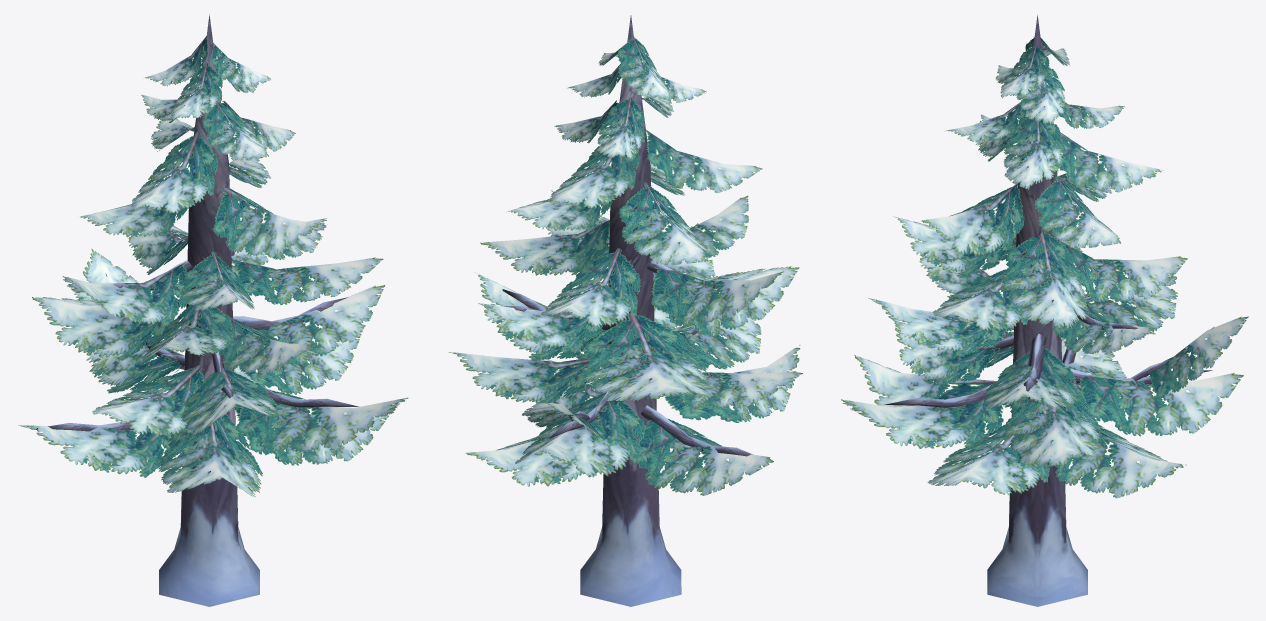
The model's file is Map_10_ tree01.FBX.
The picture shows the model from 3 angles, left to right: view 1: azimuth 30°, elevation 25°; view 2: azimuth 150°, elevation 25°; view 3: azimuth 270°, elevation 25°; orthographic projection.
Parts seen in each view (by area): view 1: Map_10_ tree01a, Map_10_ tree01b; view 2: Map_10_ tree01a, Map_10_ tree01b; view 3: Map_10_ tree01a, Map_10_ tree01b.
Boxes of the visible parts, x1=… form: Map_10_ tree01a: x1=18, y1=36, x2=408, y2=497; Map_10_ tree01b: x1=31, y1=14, x2=359, y2=606; Map_10_ tree01a: x1=448, y1=36, x2=802, y2=495; Map_10_ tree01b: x1=492, y1=15, x2=752, y2=606; Map_10_ tree01a: x1=841, y1=37, x2=1248, y2=498; Map_10_ tree01b: x1=884, y1=15, x2=1214, y2=606.
Bounding box in the file's own units: 593 × 620 × 936.
